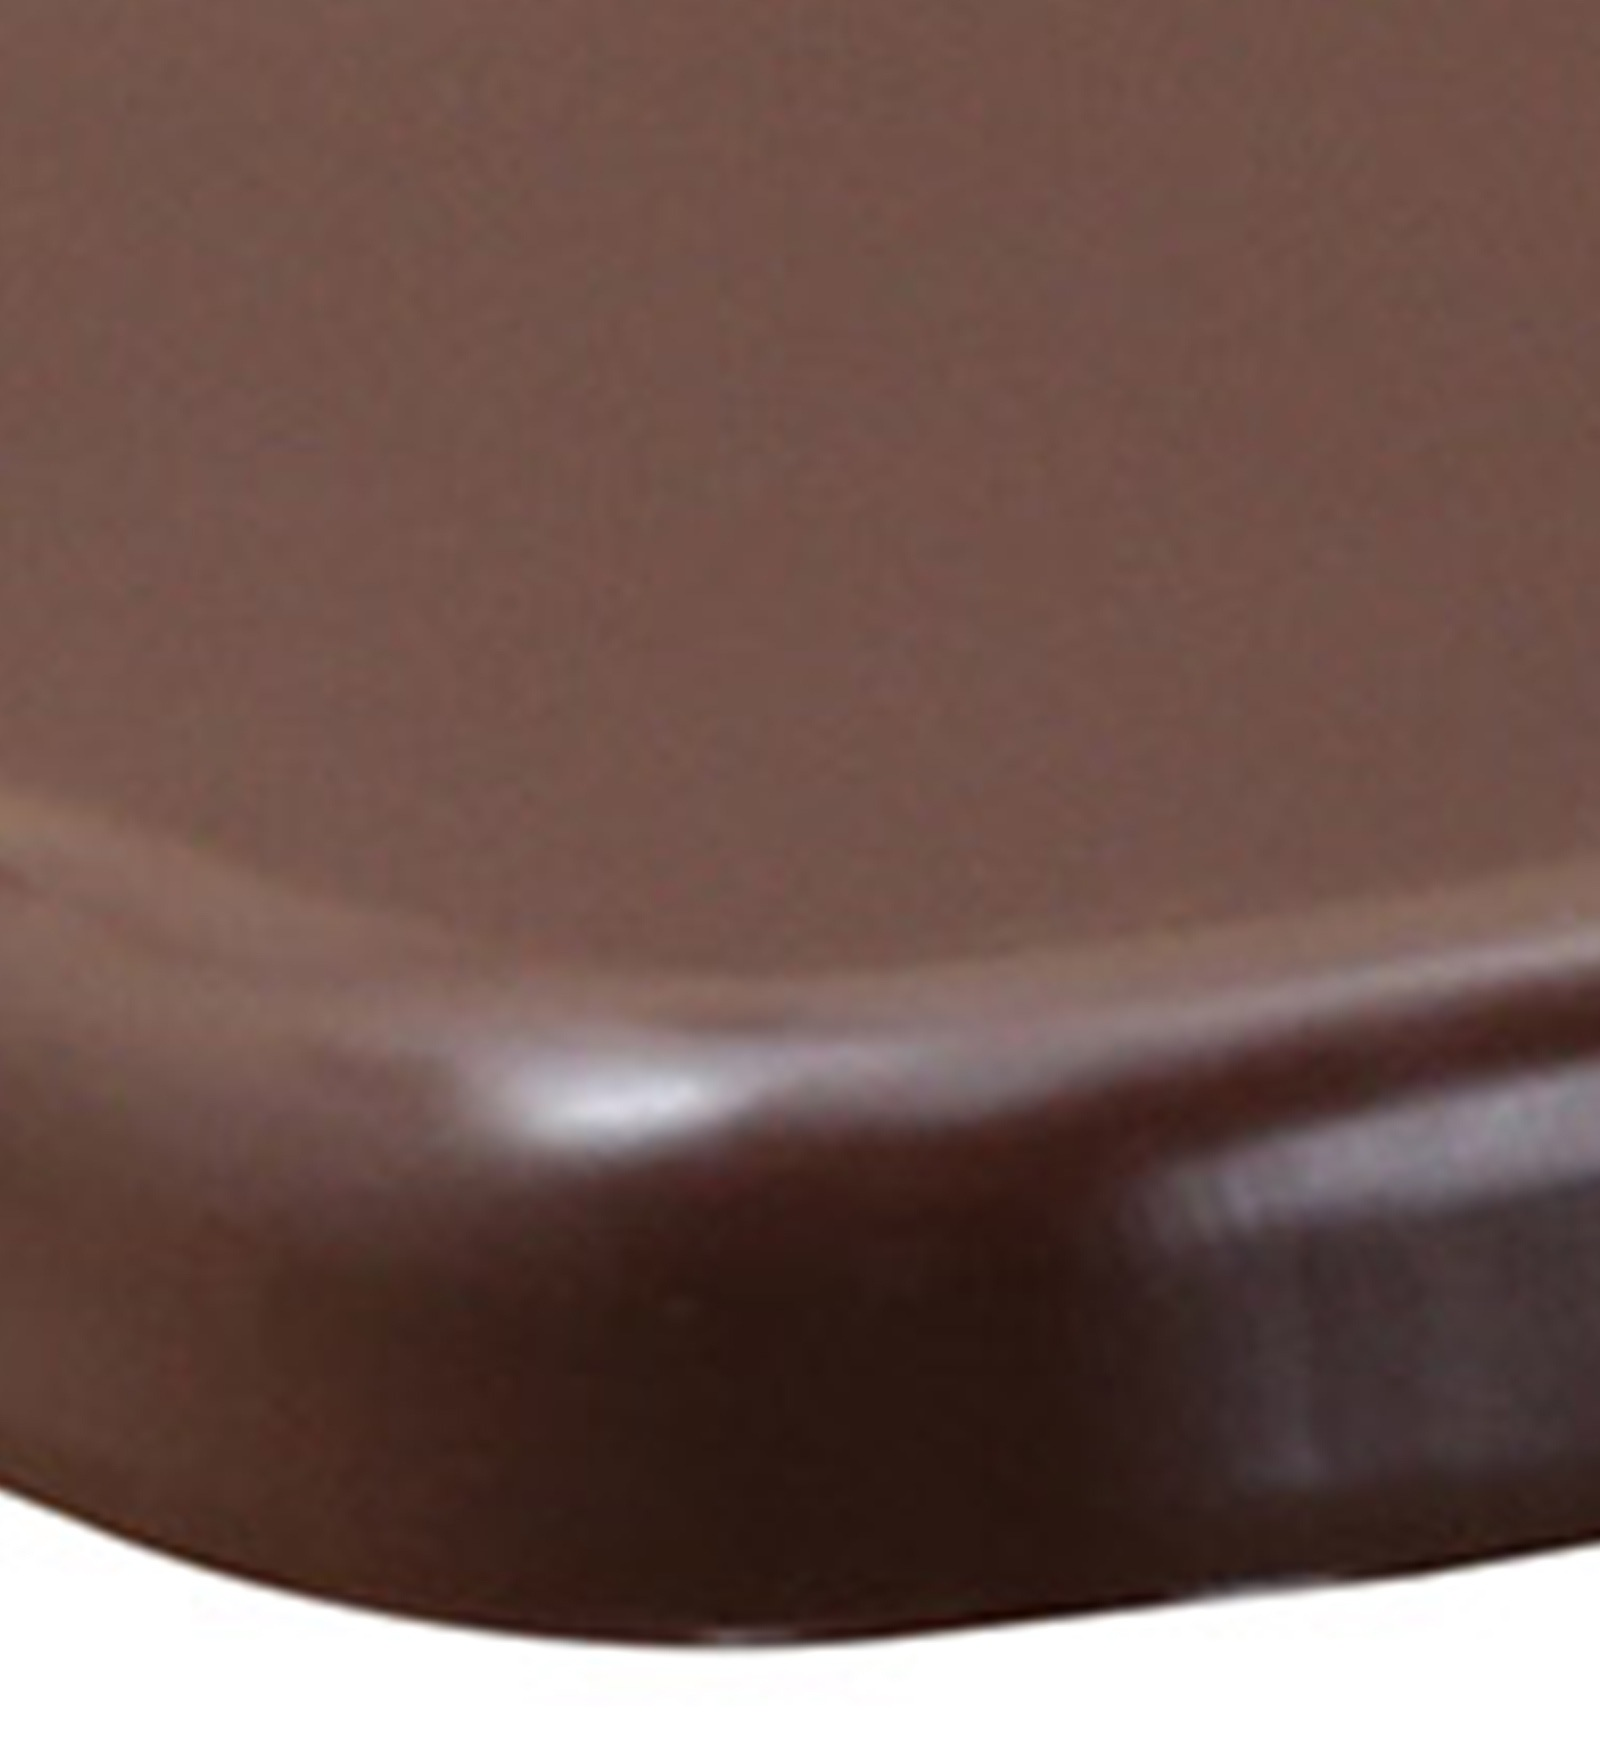Kell Folding Chair in Brown Color by Bohemiana: (6, 8, 1600, 1650)
